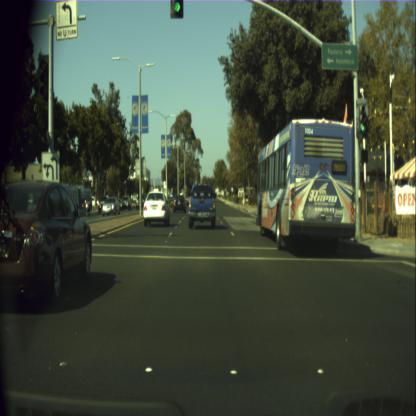Green: (356, 98, 367, 136), (171, 0, 183, 18)
RedLeft: (38, 55, 49, 102)
